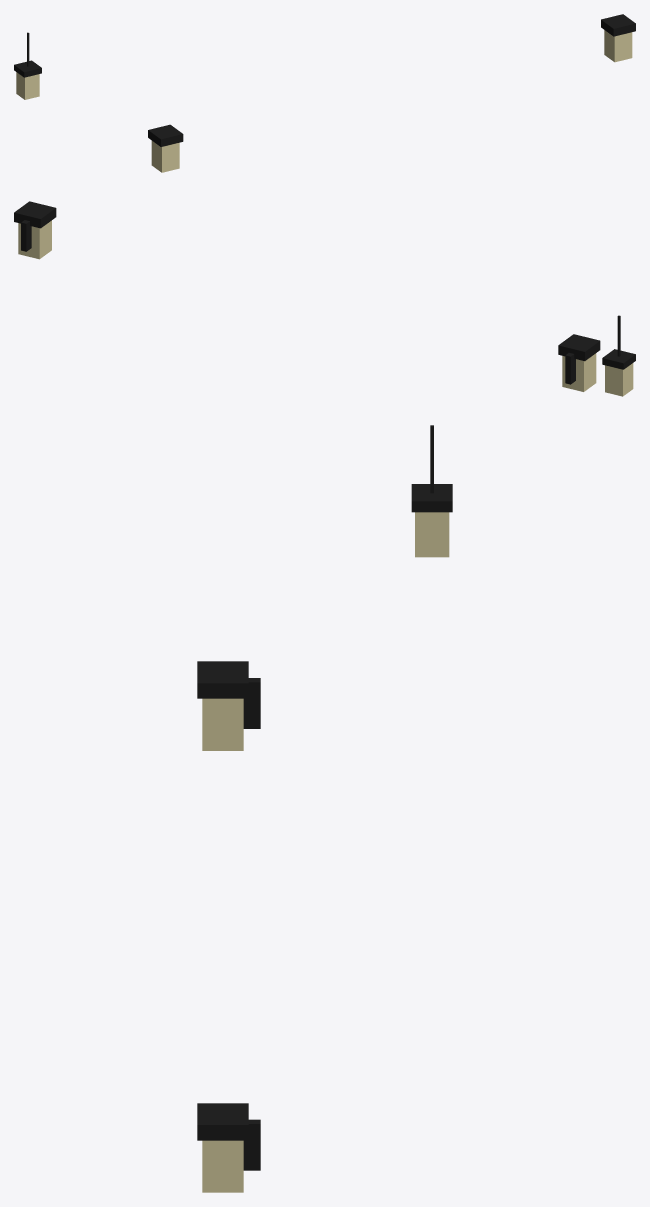
File: SM_House_Lights.fbx
The picture shows the model from 3 angles, top to bottom: view 1: azimuth 30°, elevation 25°; view 2: azimuth 150°, elevation 25°; view 3: azimuth 270°, elevation 25°; orthographic projection. The views are drawn at different scales.
Visible parts, largest first — view 1: SM_House_Lights; view 2: SM_House_Lights; view 3: SM_House_Lights.
Boxes of the visible parts, box(x1,y1,x2,y2) form: SM_House_Lights: box(14, 14, 635, 172); SM_House_Lights: box(14, 201, 635, 396); SM_House_Lights: box(197, 425, 452, 1192).
Size of the model in its own units: 7.52 by 1.5 by 1.49.
